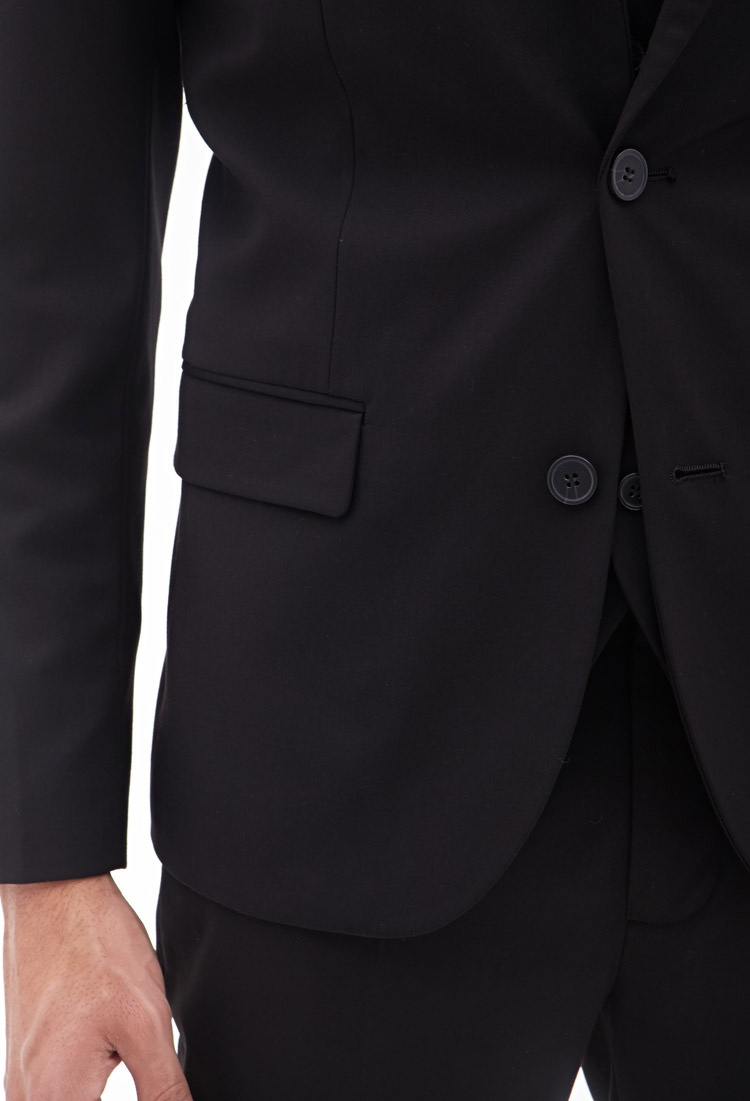F_M_suit jacket: (3, 3, 741, 906)
